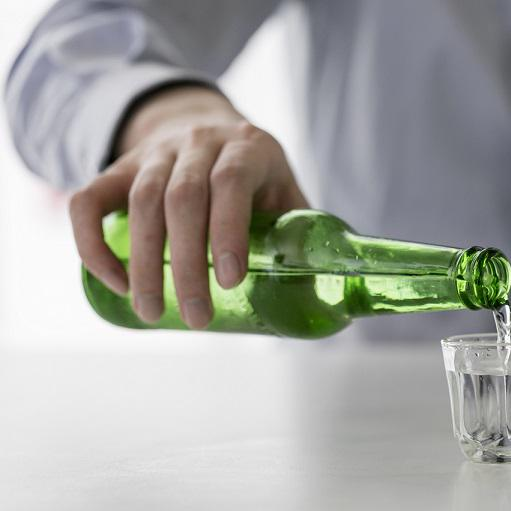soju: (75, 204, 508, 342)
